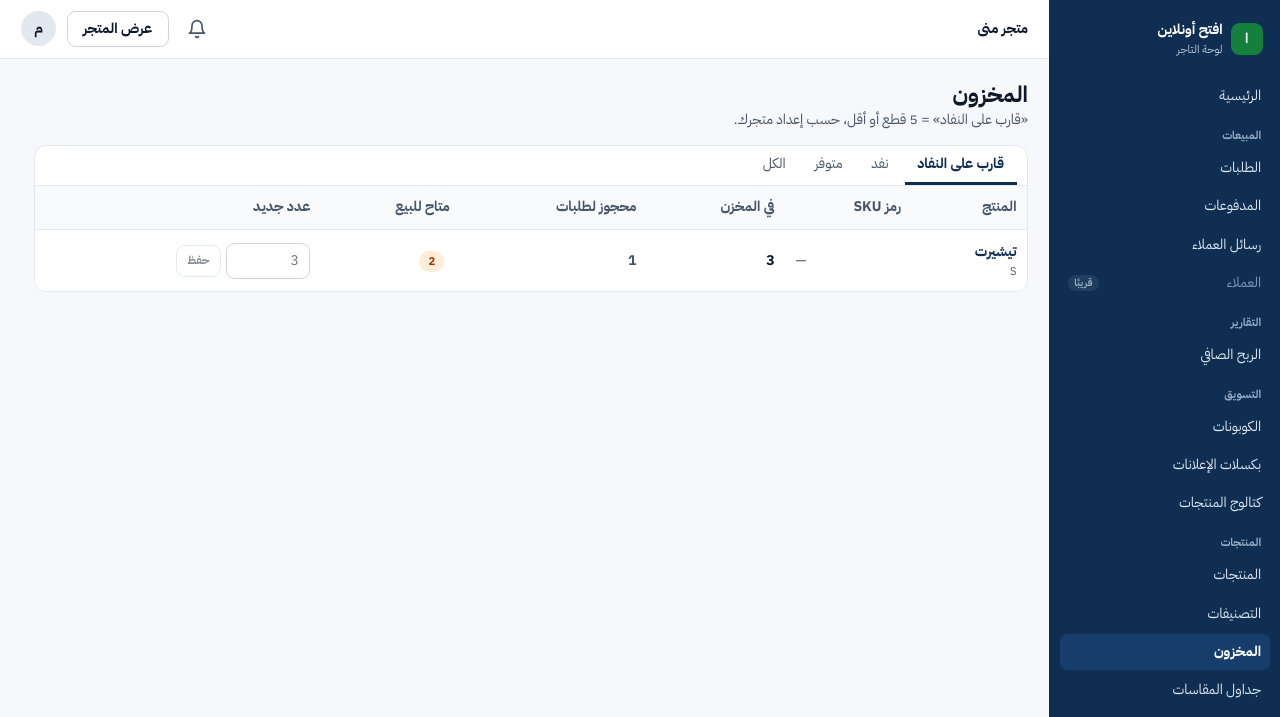
Test: Inventory › starts with what runs low, saves a new count, and switches to what sold out
This screenshot has width=1280, height=717.
Type "٢٠" into the field with placeholder "3" at (268, 261), box left=226, top=243, right=310, bottom=279
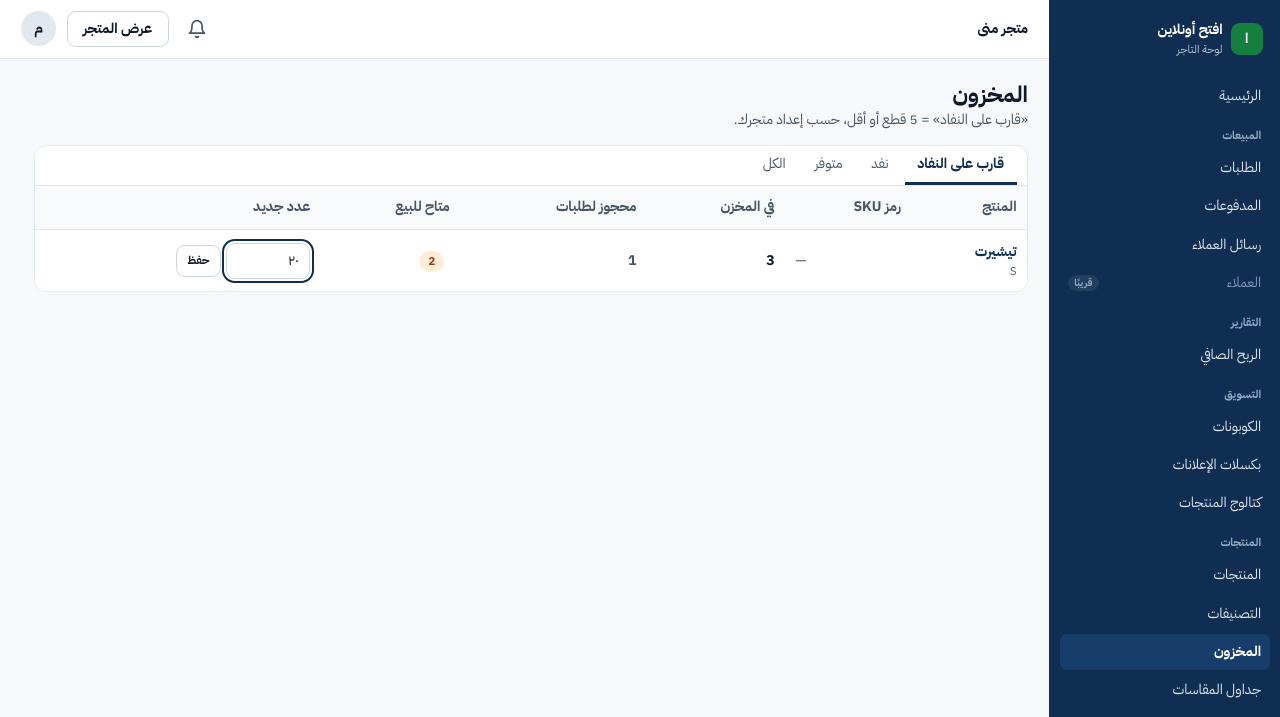
Click the button "حفظ" at (198, 261), box left=176, top=245, right=221, bottom=276
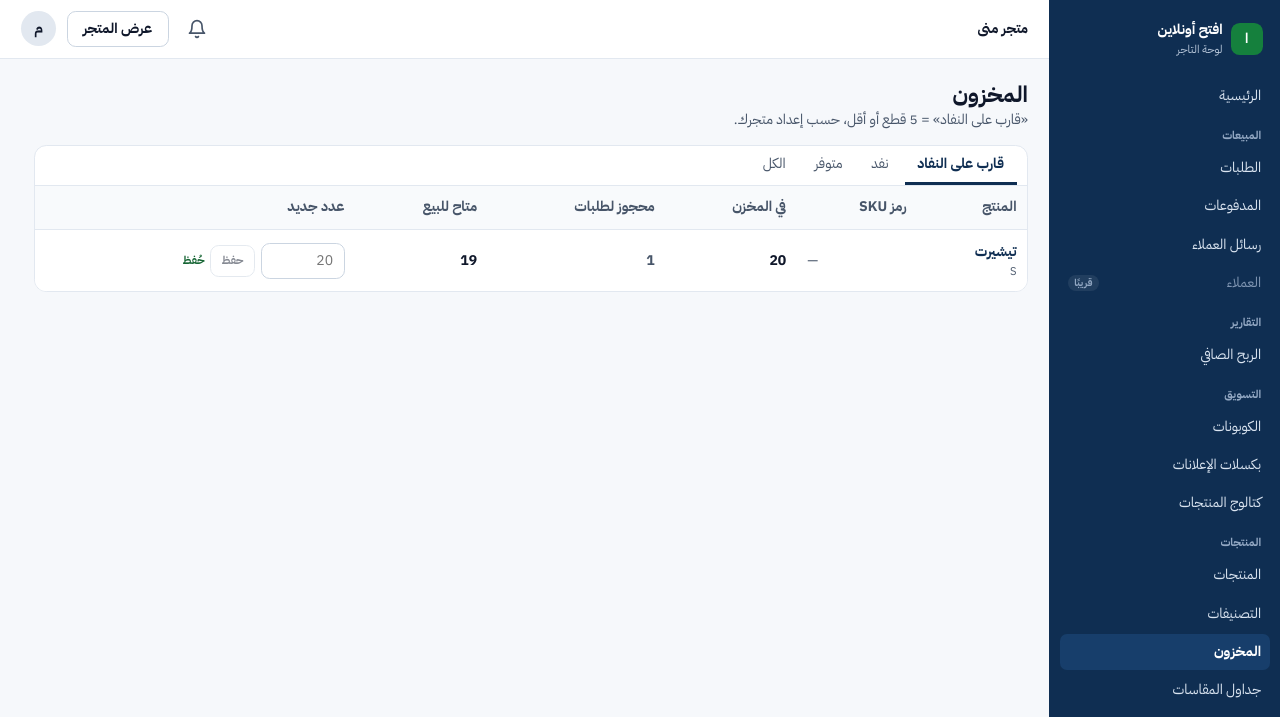
Expected: the text "حُفظ" is shown, left=183, top=252, right=205, bottom=270
Click the tab "نفد" at (880, 166), box left=859, top=146, right=901, bottom=185
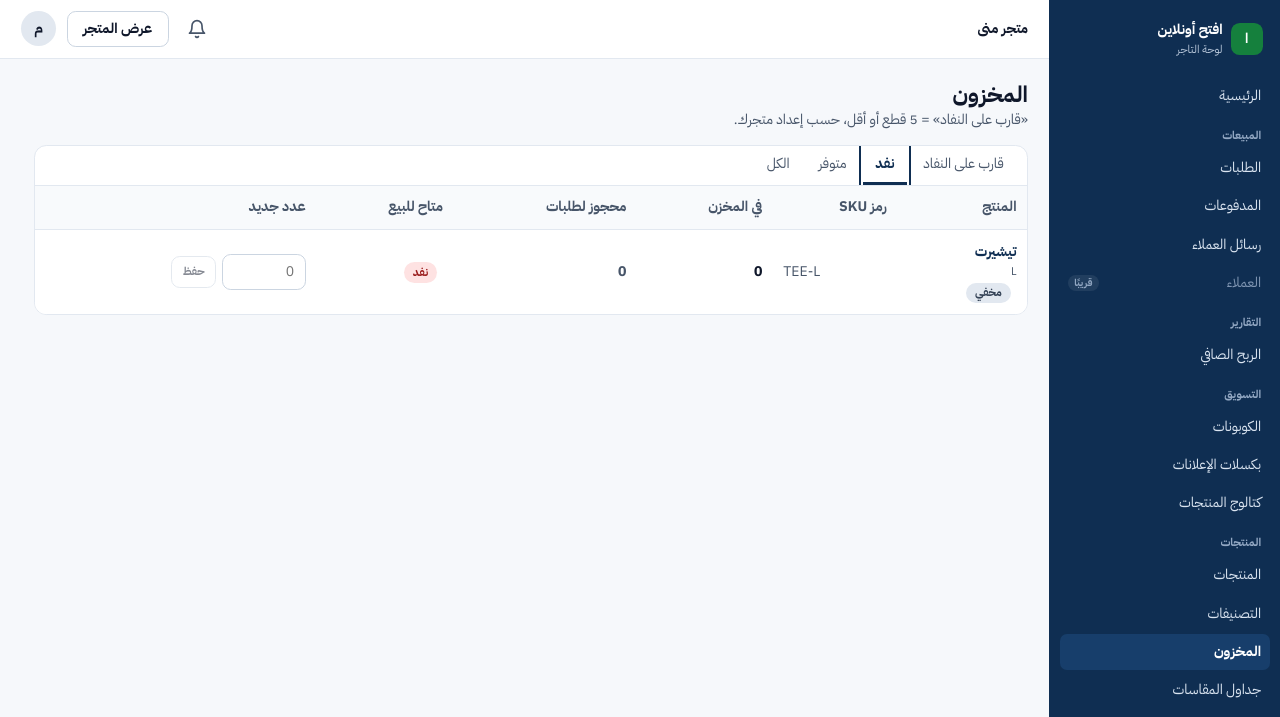
Expected: the field named "عدد جديد في المخزن لـ تيشيرت — L" is shown, left=222, top=254, right=306, bottom=290
Expected: the text "مخفي" is shown, left=966, top=283, right=1011, bottom=303
